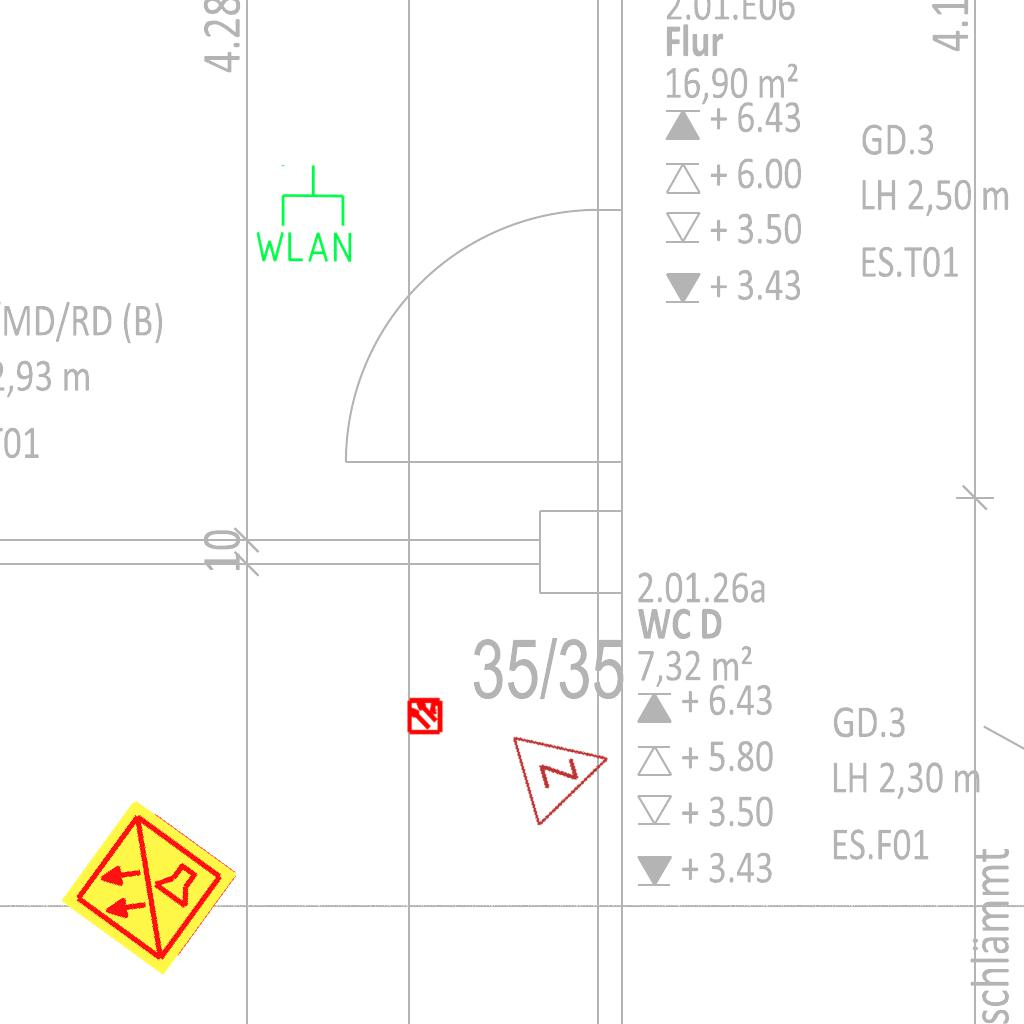OKW_Multisensormelder_(Kombination_optischer_Rauch-Kahlenmonoxid_Waerme-Melder): (56, 794, 242, 980)
OT_Multisensormelder_(Kombination_RMO_WMD): (397, 687, 453, 743)
WLAN: (251, 162, 356, 266)
Zimmersignalleuchte: (504, 708, 628, 830)
